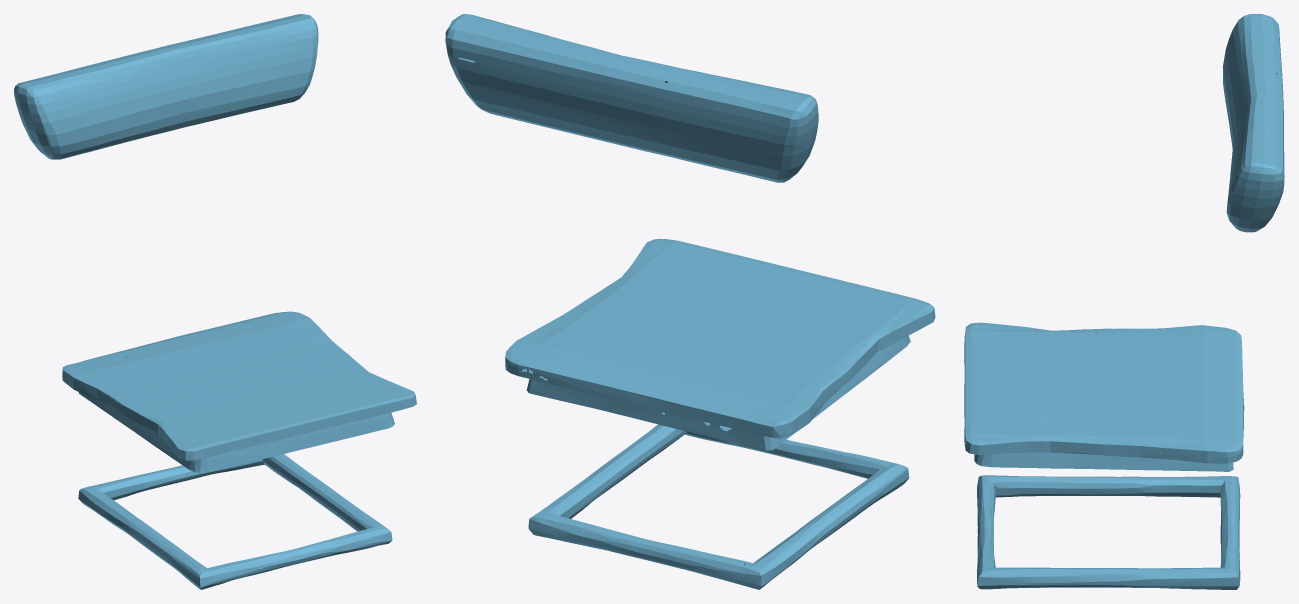
File: method-a.glb
3 renders of one model, left to right at view 1: azimuth 30°, elevation 25°; view 2: azimuth 150°, elevation 25°; view 3: azimuth 270°, elevation 25°, orthographic. The views are drawn at different scales.
Visible parts, largest first — view 1: Volume A · part 3, Volume A · part 2, Volume A · part 1; view 2: Volume A · part 3, Volume A · part 2, Volume A · part 1; view 3: Volume A · part 3, Volume A · part 1, Volume A · part 2.
Boxes of the visible parts, x1,y1,x2,y2 form: Volume A · part 3: [62, 311, 416, 473]; Volume A · part 2: [14, 14, 318, 159]; Volume A · part 1: [78, 454, 392, 589]; Volume A · part 3: [505, 239, 935, 450]; Volume A · part 2: [445, 14, 818, 182]; Volume A · part 1: [528, 424, 909, 589]; Volume A · part 3: [964, 322, 1244, 471]; Volume A · part 1: [977, 475, 1240, 589]; Volume A · part 2: [1223, 14, 1284, 232].
Size of the model in its own units: 0.5822 by 0.7922 by 0.5059.
